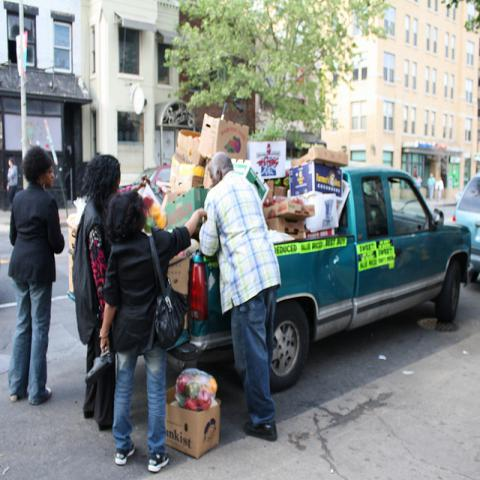car: (452, 172, 480, 284)
truck: (175, 160, 471, 393)
